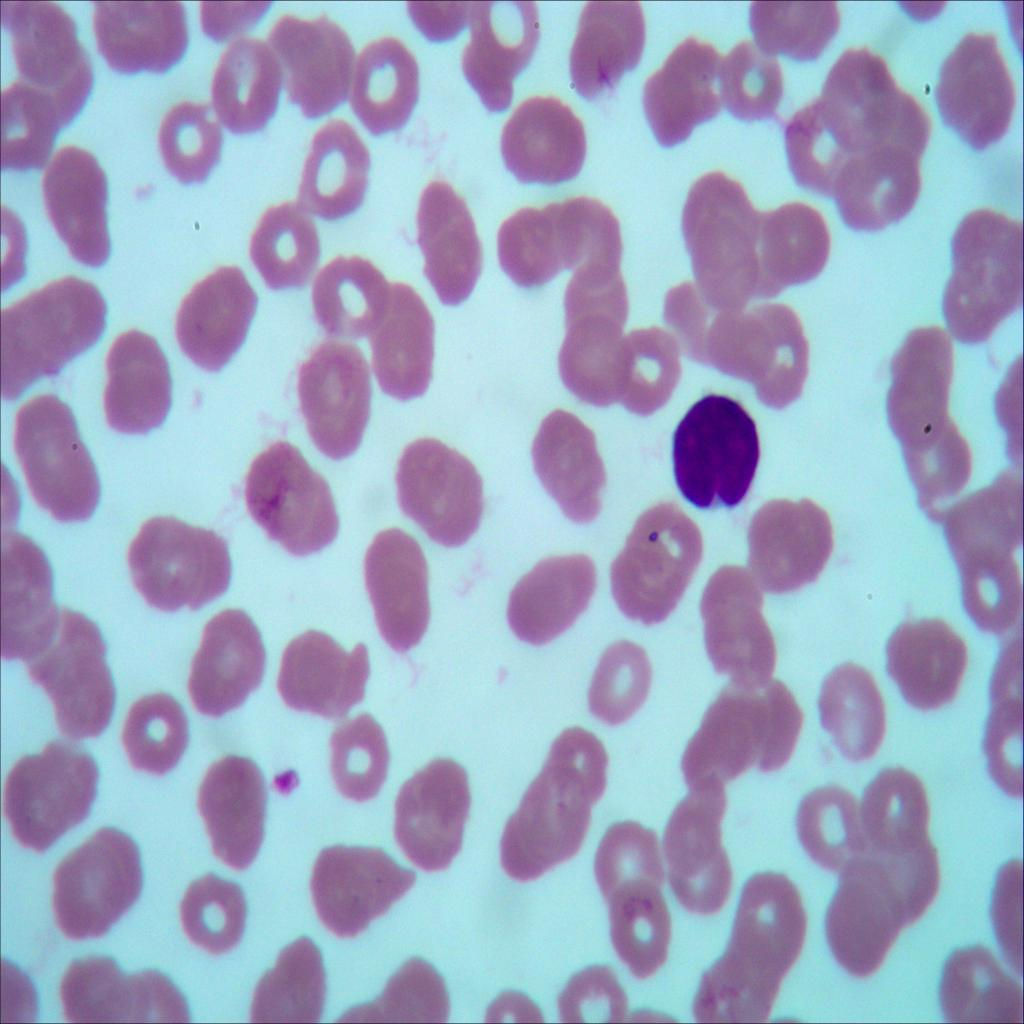Limfoblast: (674, 390, 760, 520)
Platelet: (266, 751, 308, 803)
